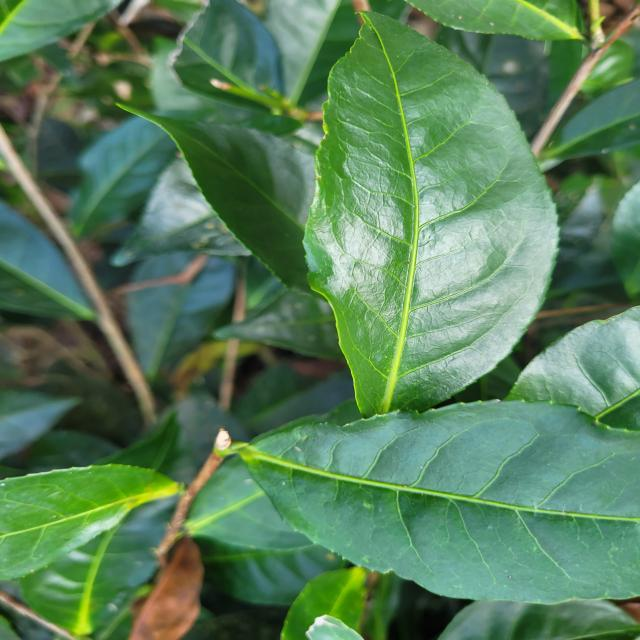Category D(7+ days, Not for Tea): (291, 4, 568, 414)
